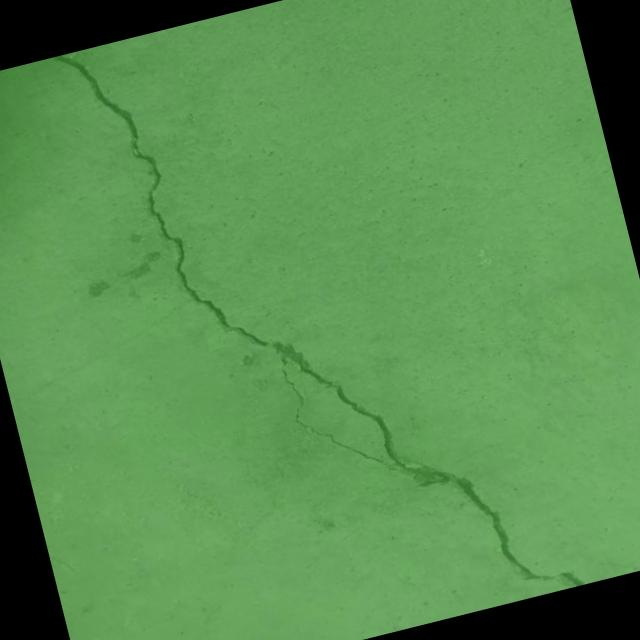crack: (50, 0, 585, 640)
